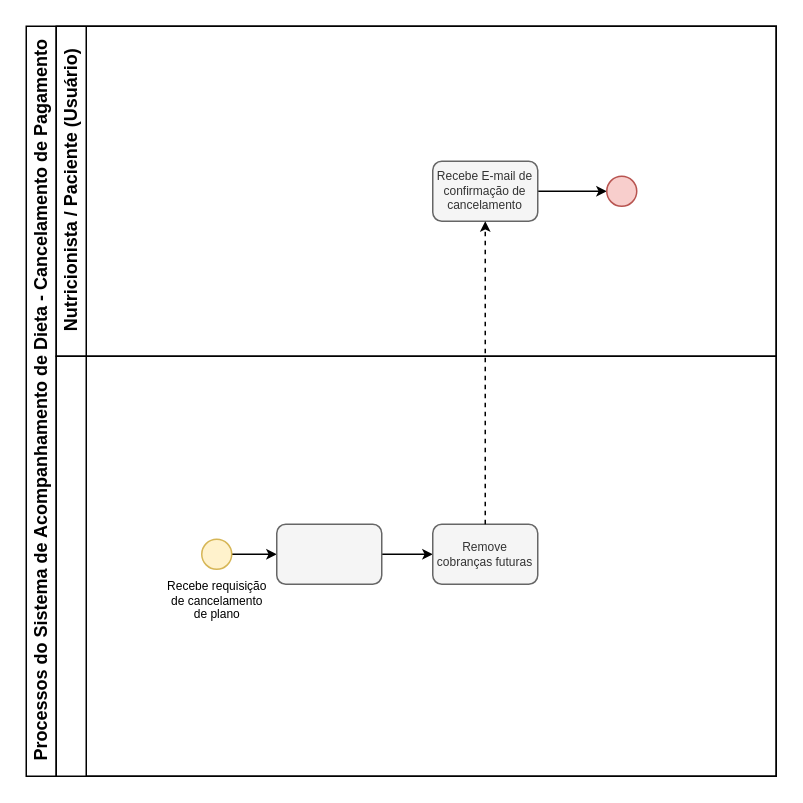
Image size: 803x803. Some labels were removed from this diagram. The box of each missing label's shape, as (x1, y1, x2, y2) in pixels:
Envia requisição para o Gateway de Pagamento: (275, 523, 382, 584)
Pagamento (Sistema): (55, 355, 776, 776)
